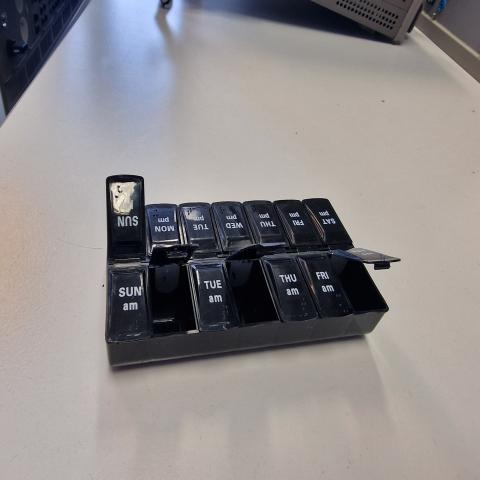Open: (224, 244, 297, 323), (148, 244, 200, 337), (330, 253, 399, 314), (142, 176, 147, 260)
